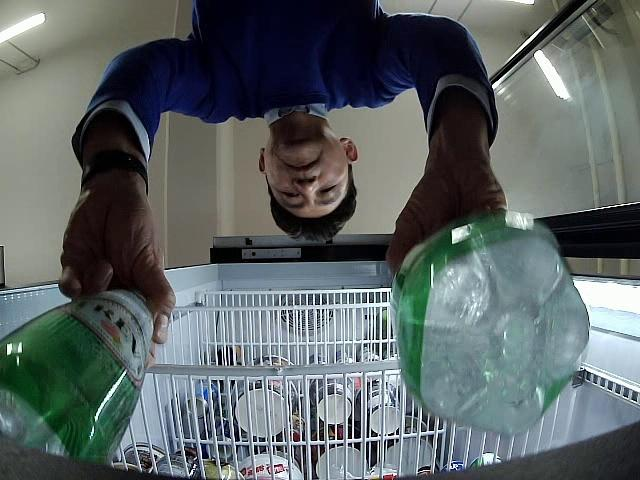00_hand: (58, 189, 176, 344), (387, 141, 507, 274)
18_trevi: (390, 216, 589, 435), (0, 290, 154, 466)
